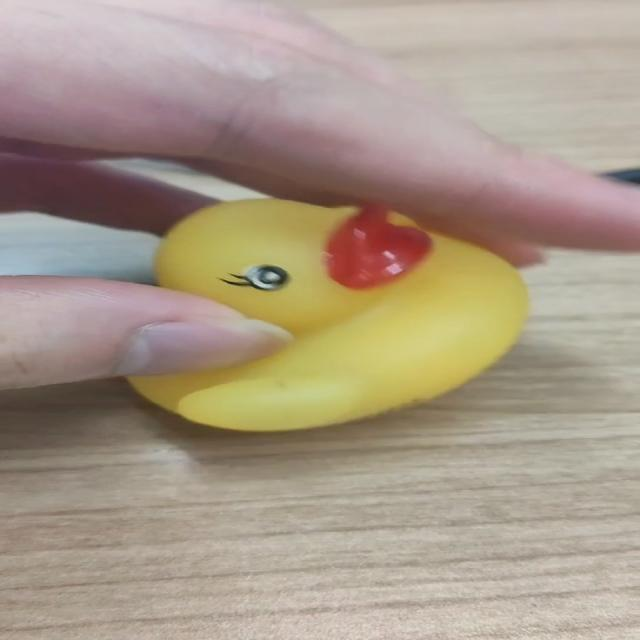rubber-duck: (130, 198, 526, 429)
